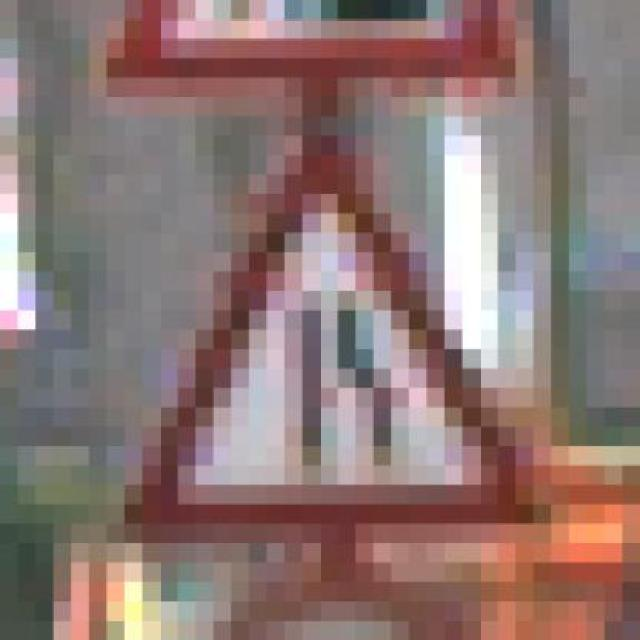-Road narrows on right: (125, 116, 569, 544)
